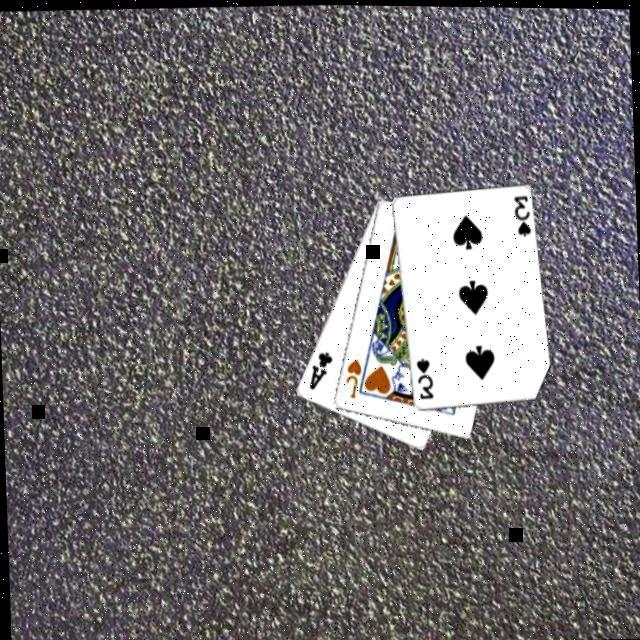3S: (414, 352, 438, 399), (512, 189, 535, 236)
AC: (306, 346, 338, 391)
JH: (343, 352, 367, 399)
